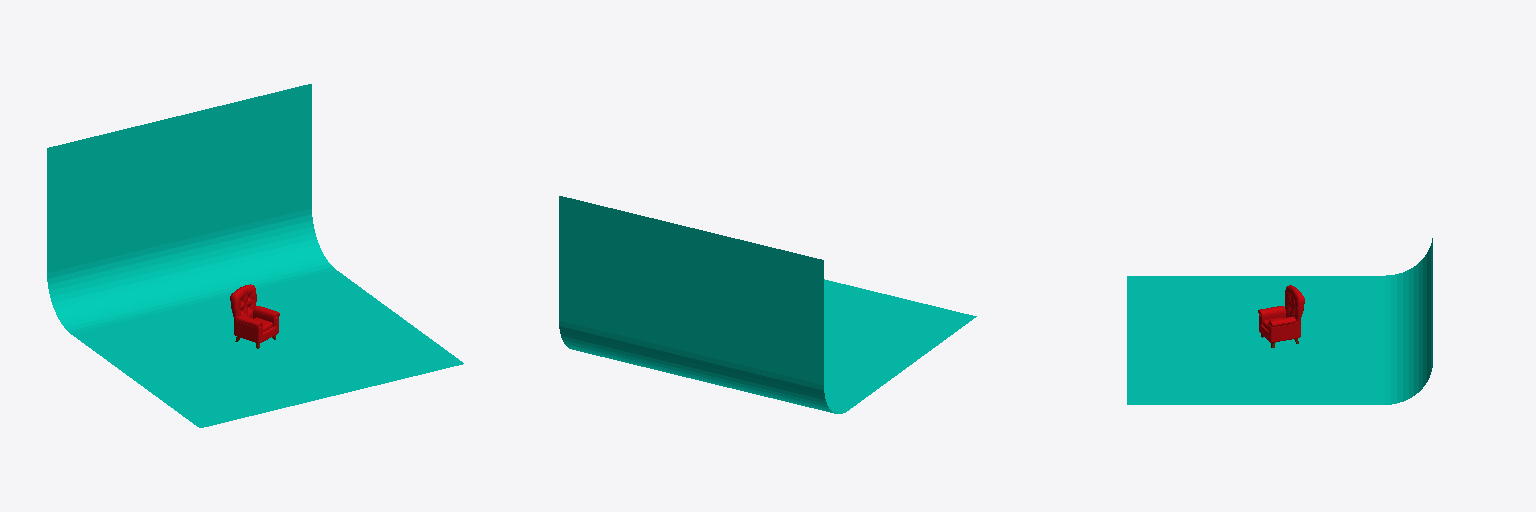
The model's file is chair.obj.
The picture shows the model from 3 angles: view 1: azimuth 30°, elevation 25°; view 2: azimuth 150°, elevation 25°; view 3: azimuth 270°, elevation 25°; orthographic projection.
Parts seen in each view (by area): view 1: Plane.003_Plane.006, Plane; view 2: Plane.003_Plane.006; view 3: Plane.003_Plane.006, Plane.
Part boxes in pixels (bbox=[...]): Plane.003_Plane.006: bbox=[47, 84, 463, 427]; Plane: bbox=[230, 284, 278, 343]; Plane.003_Plane.006: bbox=[559, 196, 976, 413]; Plane.003_Plane.006: bbox=[1127, 238, 1432, 404]; Plane: bbox=[1259, 285, 1304, 342].
Bounding box in the file's own units: 18.34 × 11.14 × 18.34.